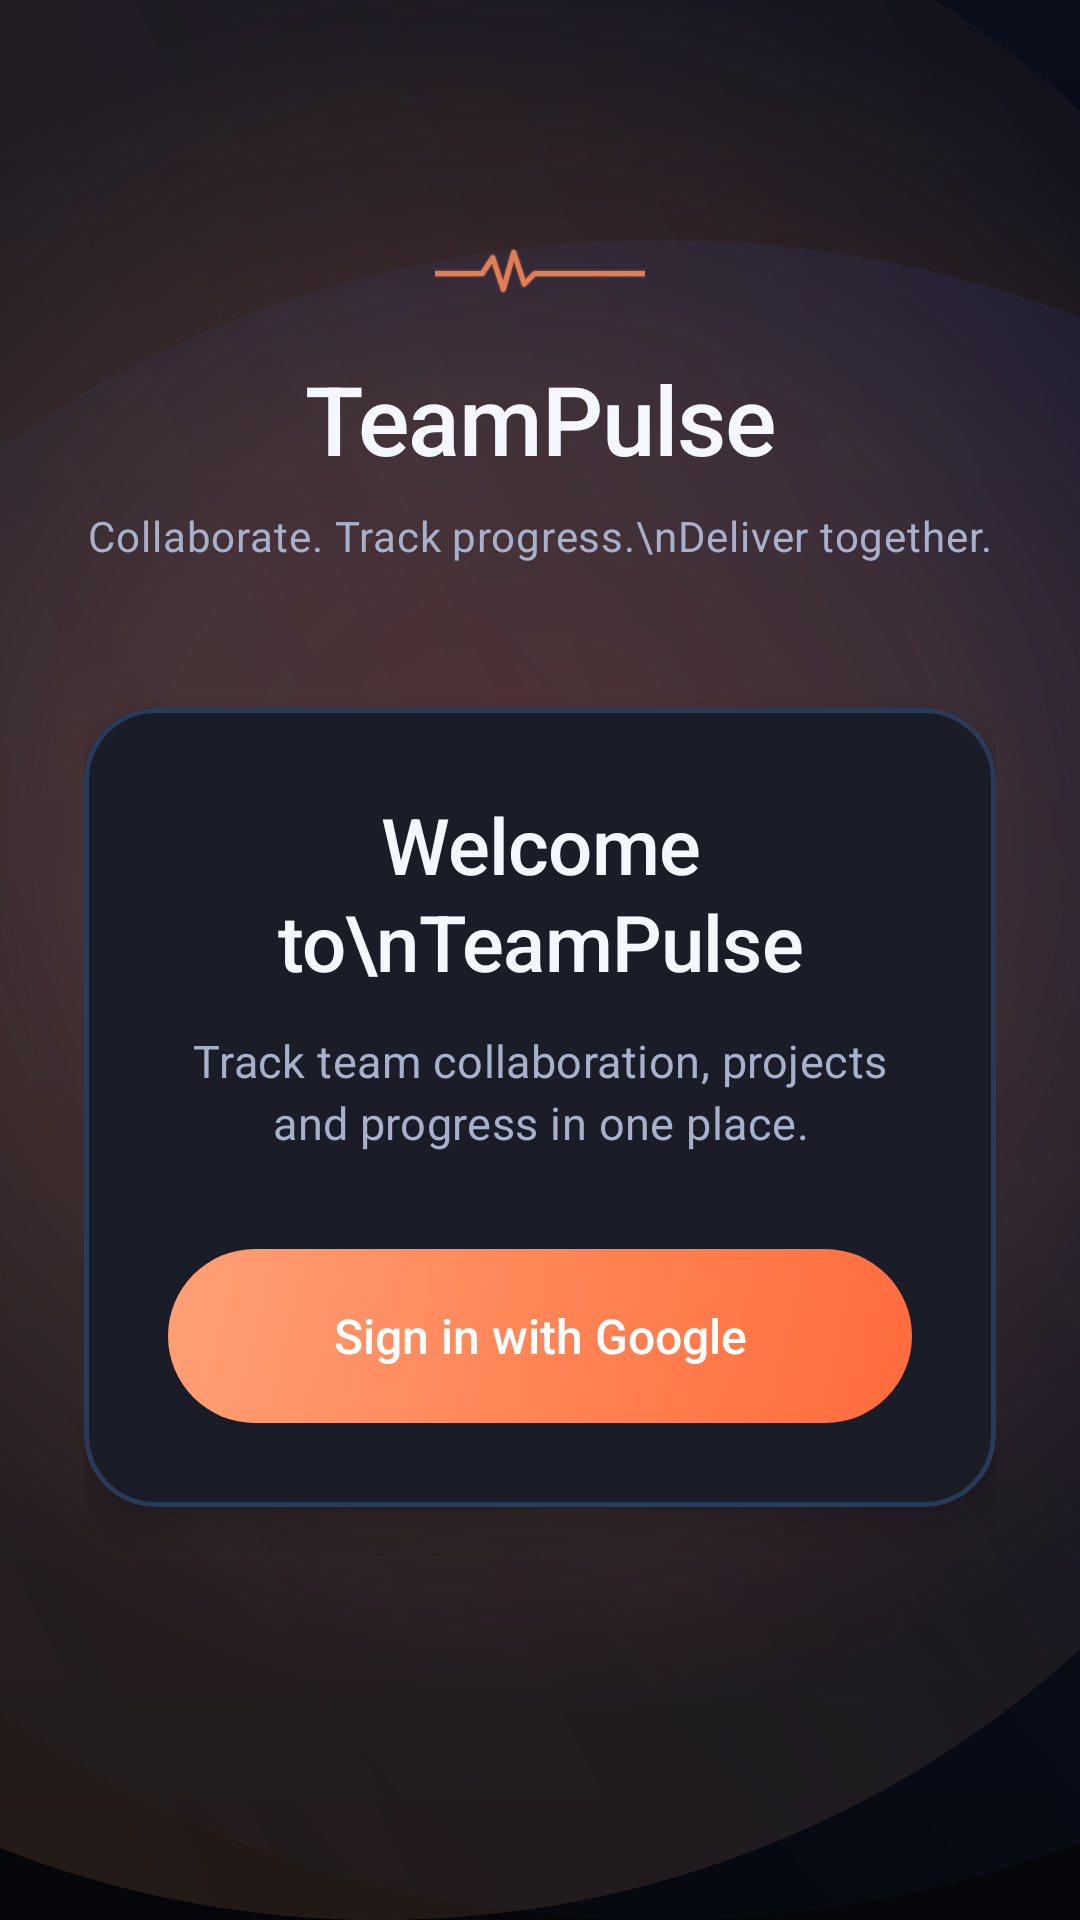

Named icons in this screenshot (1080×1920) and their bounding boxes, (x1, y1, x2, y2):
pulse motif: (435, 249, 645, 293)
